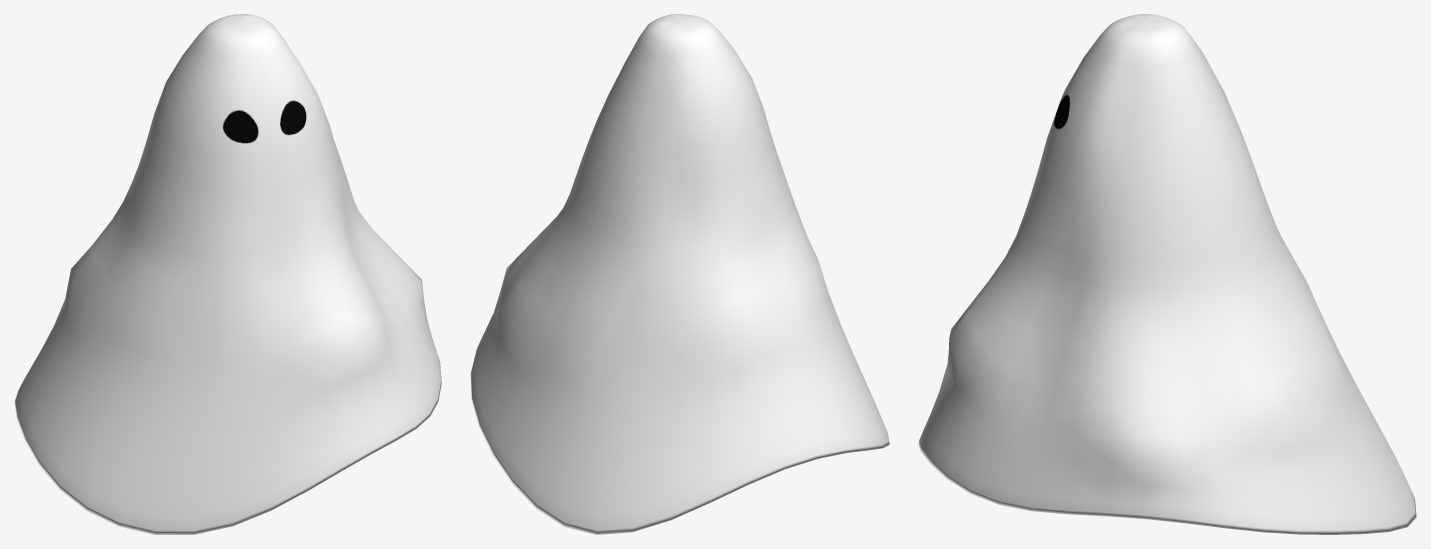
The model's file is phantomfbx.fbx.
3 renders of one model, left to right at view 1: azimuth 30°, elevation 25°; view 2: azimuth 150°, elevation 25°; view 3: azimuth 270°, elevation 25°, orthographic. The views are drawn at different scales.
Parts seen in each view (by area): view 1: Cylinder001; view 2: Cylinder001; view 3: Cylinder001.
Part boxes in pixels (x1=…): Cylinder001: x1=14, y1=14, x2=441, y2=534; Cylinder001: x1=470, y1=14, x2=889, y2=534; Cylinder001: x1=918, y1=14, x2=1416, y2=534.
Size of the model in its own units: 56.28 by 62.09 by 56.64.
1 material, 1 textured.
